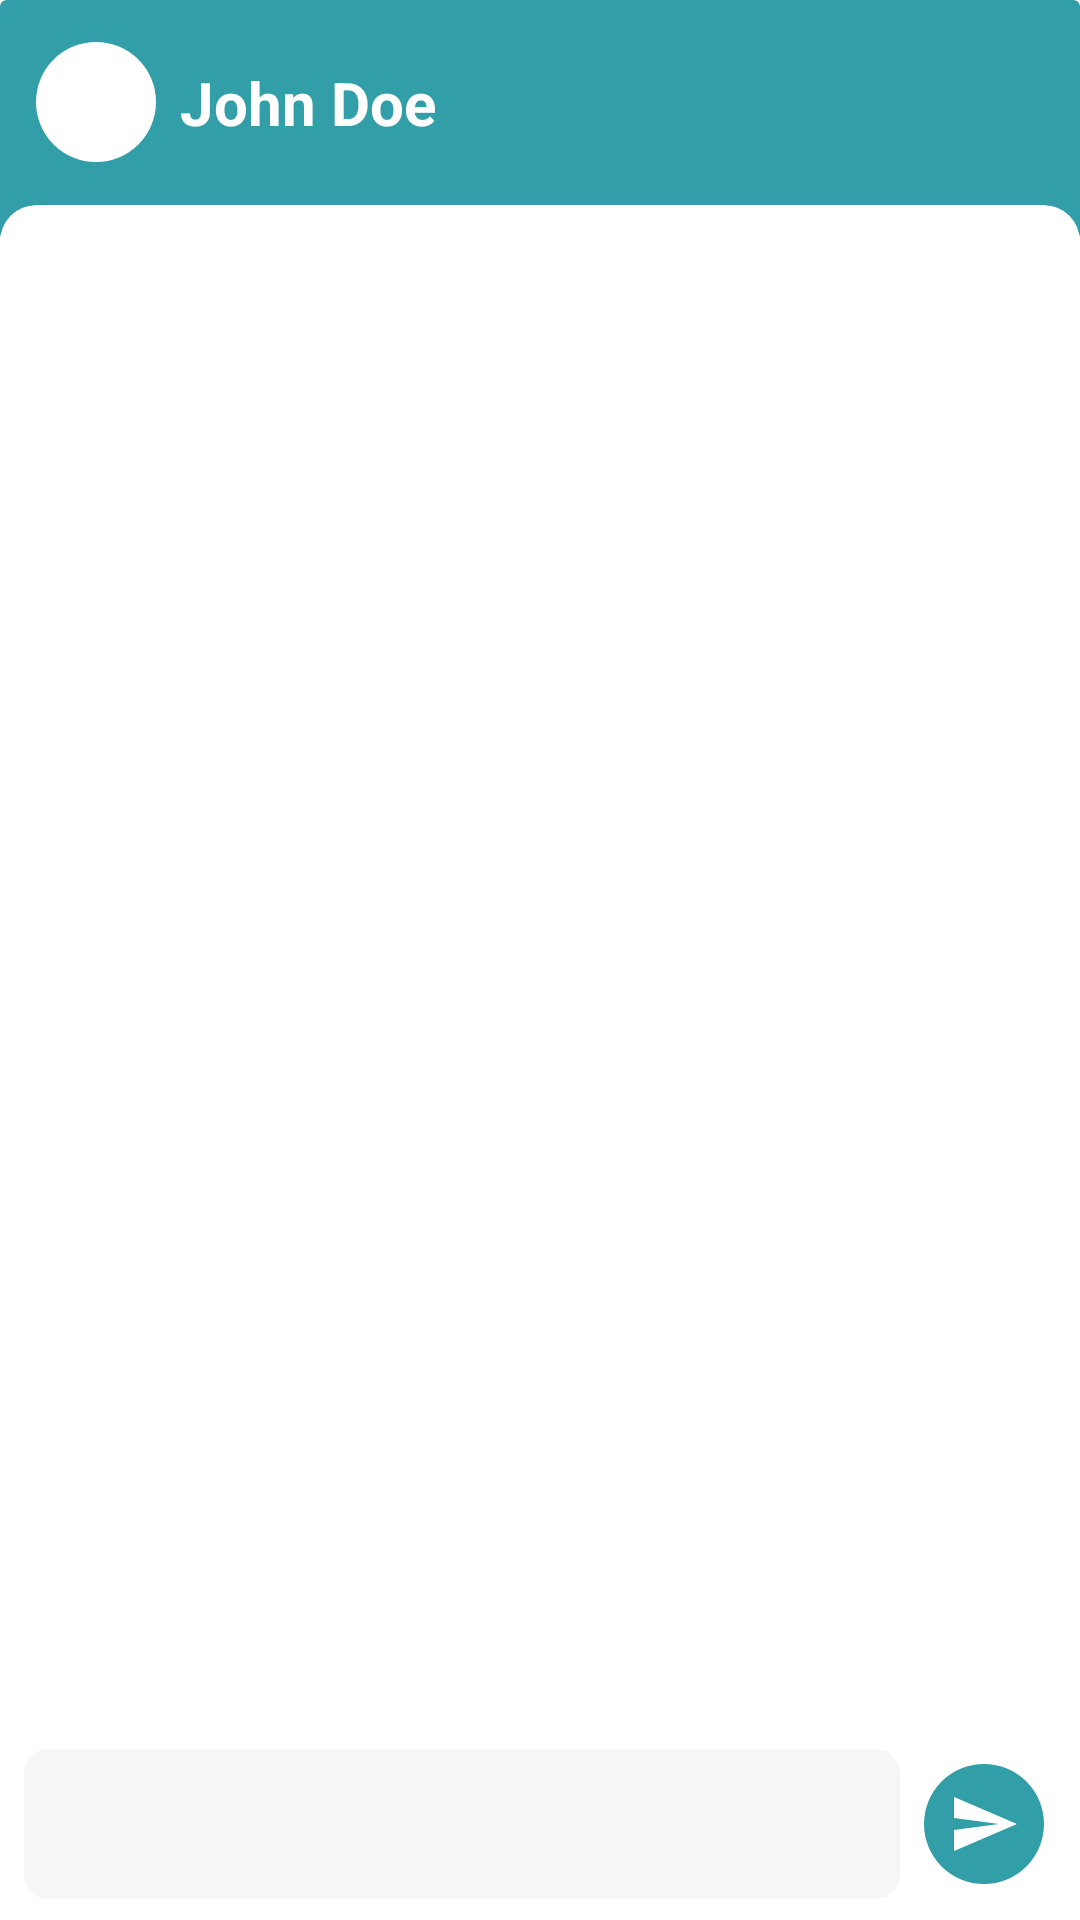

Icons on this 1080px x 1920px Android screen, each with its box as Rect(x1, y1, x2, y2):
send: Rect(924, 1764, 1044, 1884)
